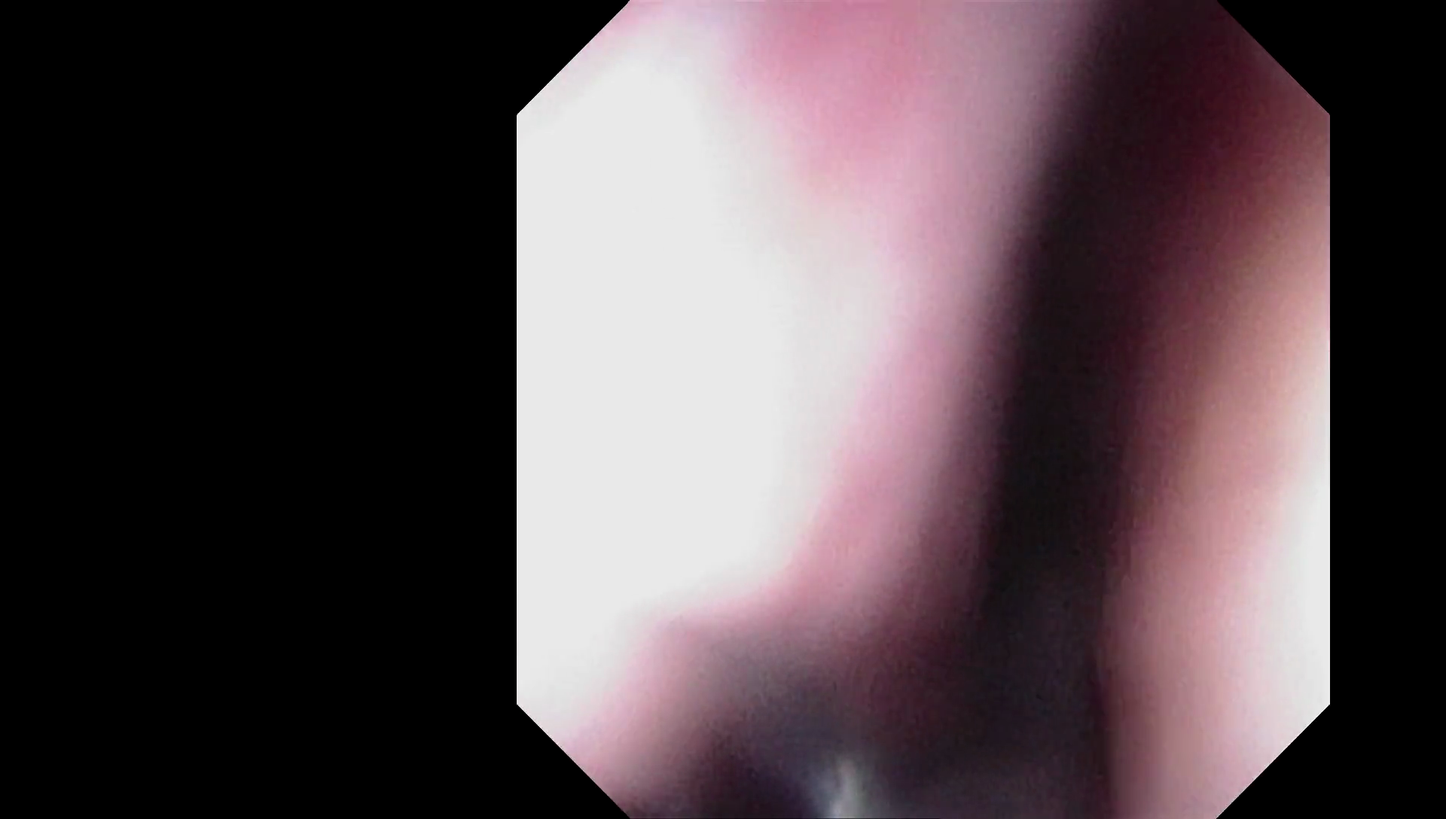close_wall: (530, 117, 958, 699), (1181, 220, 1326, 698)
next: (995, 165, 1168, 744)
